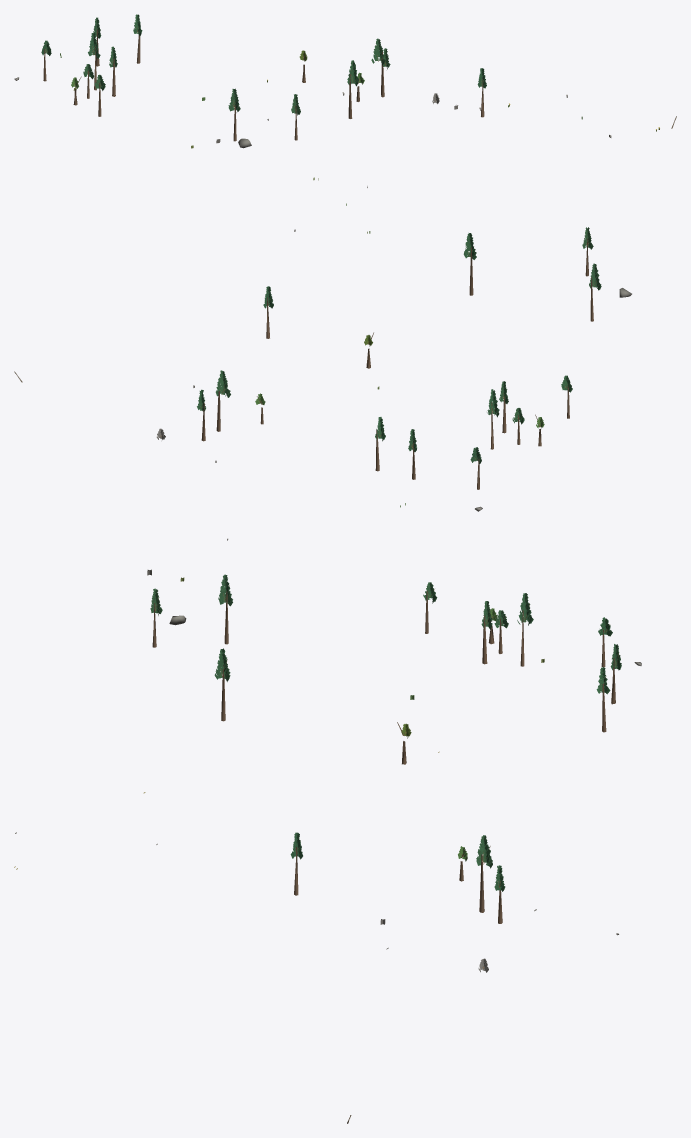
Rendered from arch_land_scatter_c21_18_lod1.glb.
3 renders of one model, top to bottom at view 1: azimuth 30°, elevation 25°; view 2: azimuth 150°, elevation 25°; view 3: azimuth 270°, elevation 25°, orthographic. The views are drawn at different scales.
Visible parts, largest first — view 1: arch_land_scatter_c21_18_lod1; view 2: arch_land_scatter_c21_18_lod1; view 3: arch_land_scatter_c21_18_lod1.
Part boxes in pixels (x1,y1,x2,y2): arch_land_scatter_c21_18_lod1: (14, 14, 676, 148); arch_land_scatter_c21_18_lod1: (14, 177, 631, 540); arch_land_scatter_c21_18_lod1: (14, 569, 641, 1123).
Bounding box in the file's own units: 121 × 41.67 × 98.7.
